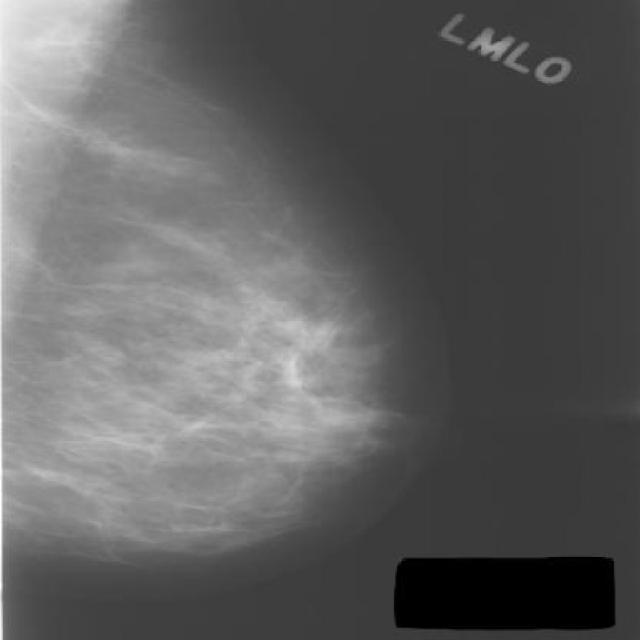tumor: (172, 216, 383, 468)
